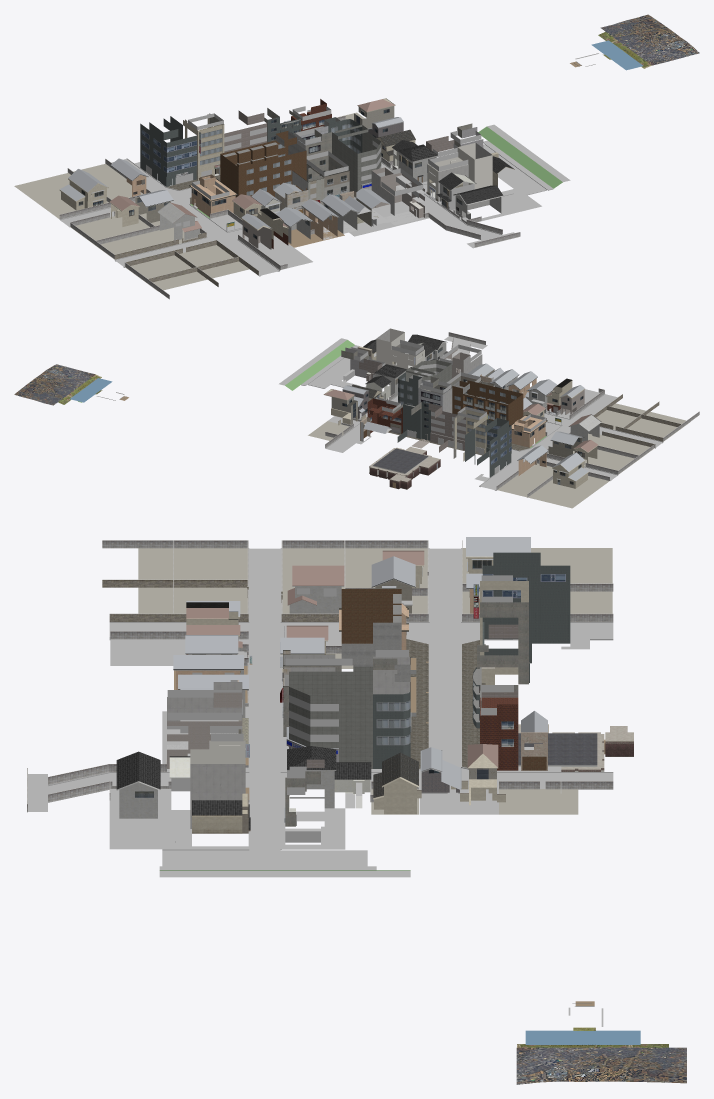
Rendered from sakura.glb.
3 views of the same model, one above another, from view 1: azimuth 30°, elevation 25°; view 2: azimuth 150°, elevation 25°; view 3: azimuth 270°, elevation 25° (orthographic). The views are drawn at different scales.
Bounding box in the file's own units: 283 × 31.29 × 150.
Materials: 267 (102 with a texture image).
